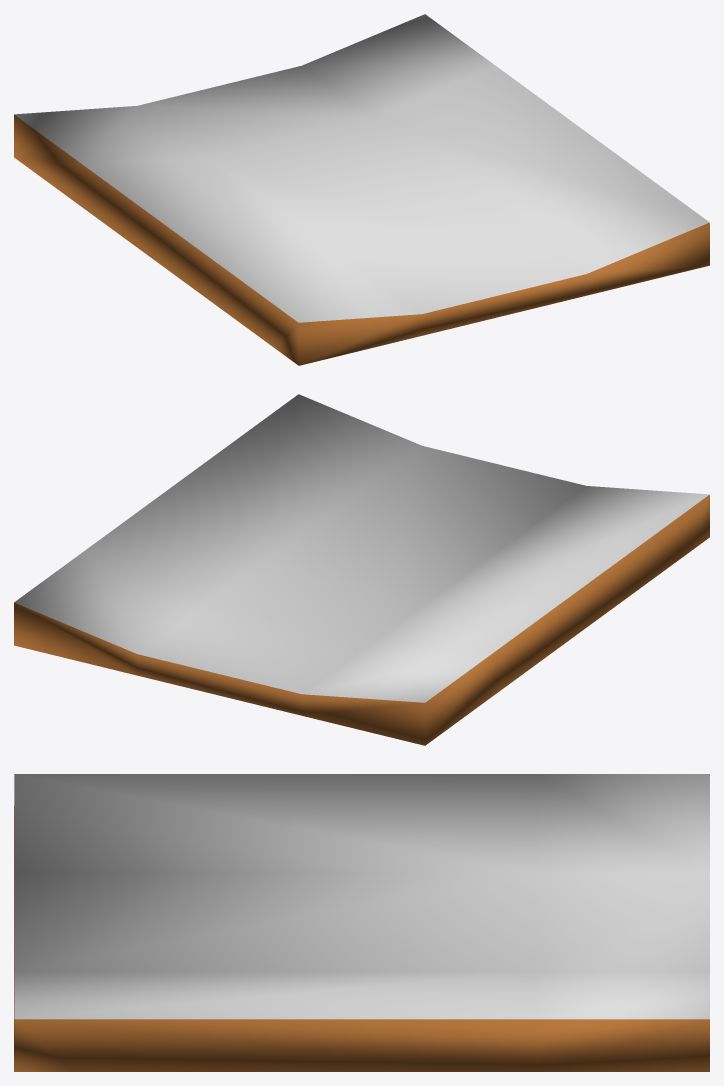
The model's file is RaceTrack_Flat.obj.
3 views of the same model, one above another, from view 1: azimuth 30°, elevation 25°; view 2: azimuth 150°, elevation 25°; view 3: azimuth 270°, elevation 25° (orthographic). The views are drawn at different scales.
Visible parts, largest first — view 1: Cube_1, Cube_0; view 2: Cube_1, Cube_0; view 3: Cube_1, Cube_0.
Part boxes in pixels (x1,y1,x2,y2): Cube_1: [14, 14, 709, 322]; Cube_0: [14, 114, 709, 365]; Cube_1: [14, 394, 709, 702]; Cube_0: [14, 495, 709, 745]; Cube_1: [14, 774, 709, 1019]; Cube_0: [14, 806, 709, 1071].
Bounding box in the file's own units: 5 × 0.5 × 6.
